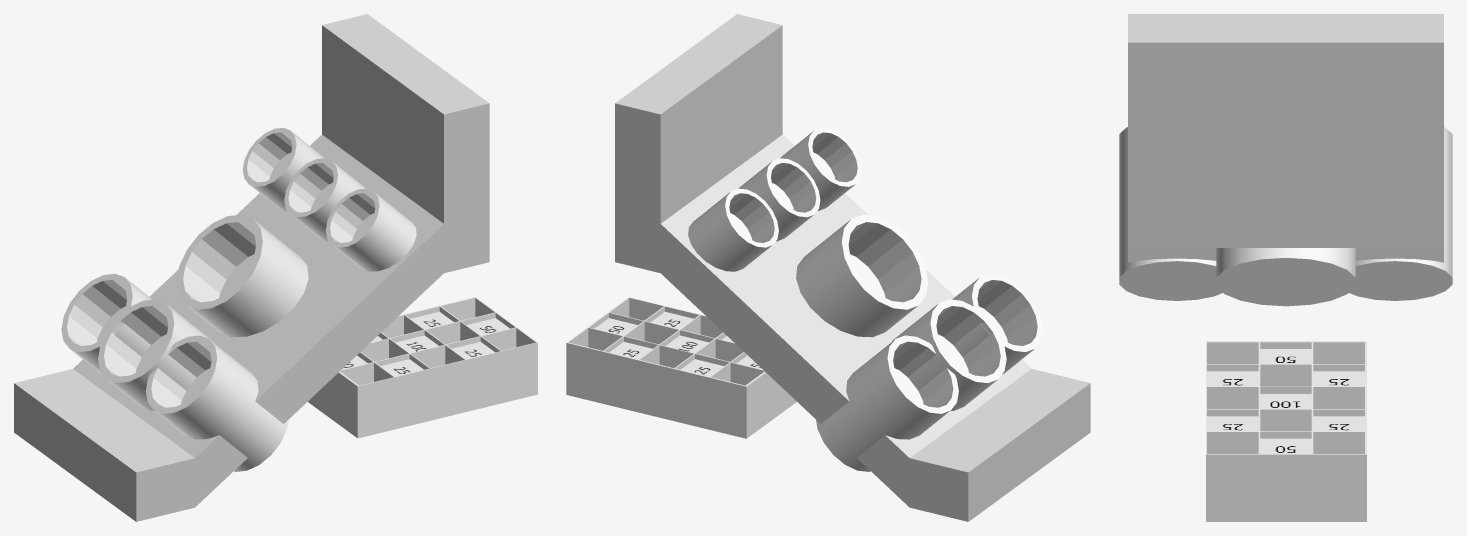
Rendered from scoreboard2.FBX.
3 renders of one model, left to right at view 1: azimuth 30°, elevation 25°; view 2: azimuth 150°, elevation 25°; view 3: azimuth 270°, elevation 25°, orthographic. The views are drawn at different scales.
Visible parts, largest first — view 1: Box002, Cylinder004, Box001; view 2: Box002, Cylinder004, Box001; view 3: Box002, Box001, Cylinder004.
Boxes of the visible parts, box(x1,y1,x2,y2) form: Box002: box(14, 14, 489, 521); Cylinder004: box(61, 127, 416, 471); Box001: box(308, 297, 537, 438); Box002: box(615, 14, 1090, 521); Cylinder004: box(688, 128, 1043, 471); Box001: box(566, 297, 796, 438); Box002: box(1128, 14, 1443, 262); Box001: box(1206, 341, 1366, 521); Cylinder004: box(1119, 127, 1452, 306).
Bounding box in the file's own units: 867 × 638 × 448.
